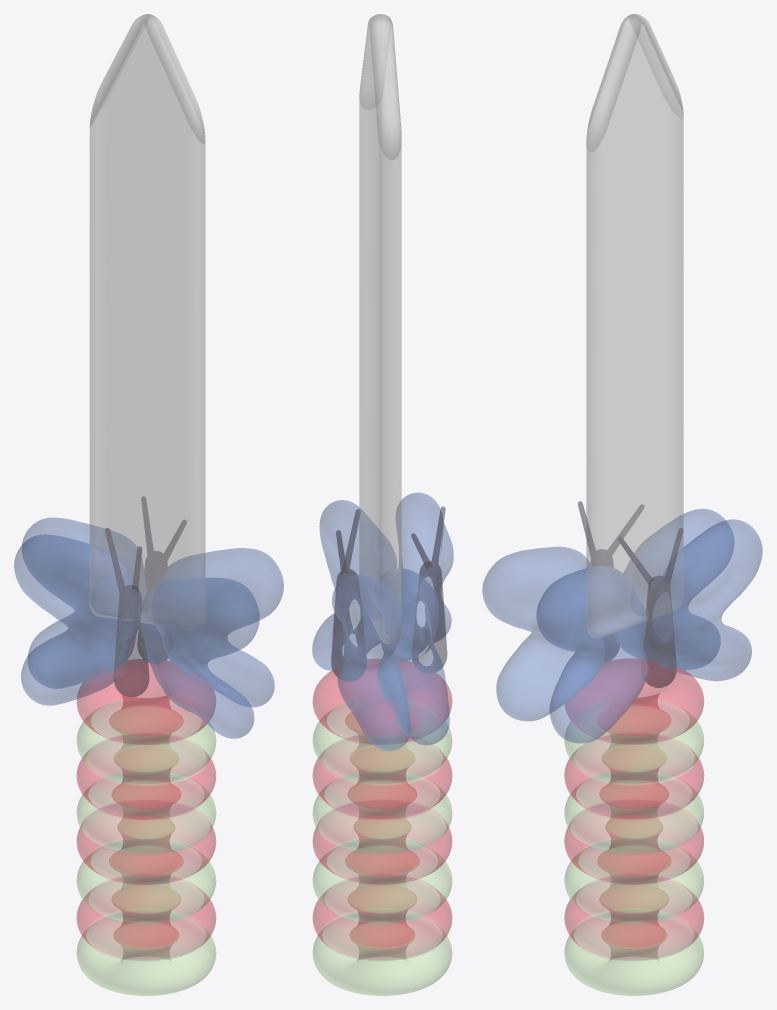
3 views of the same model, side by side, from view 1: azimuth 30°, elevation 25°; view 2: azimuth 150°, elevation 25°; view 3: azimuth 270°, elevation 25° (orthographic).
Visible parts, largest first — view 1: Area (8), Area (5), Area (7), Area (4); view 2: Area (5), Area (8), Area (4), Area (7); view 3: Area (8), Area (5), Area (4), Area (7).
Boxes of the visible parts, x1,y1,x2,y2 form: Area (8): (90, 14, 205, 624); Area (5): (77, 659, 215, 995); Area (7): (14, 528, 259, 738); Area (4): (22, 496, 283, 706); Area (5): (313, 659, 451, 995); Area (8): (359, 14, 401, 643); Area (4): (312, 500, 410, 750); Area (7): (373, 493, 453, 744); Area (8): (586, 14, 683, 637); Area (5): (564, 658, 703, 995); Area (4): (536, 519, 762, 743); Area (7): (482, 501, 734, 720).
Bounding box in the file's own units: 46.73 × 227 × 60.17.
Materials: 4 (4 with a texture image).
